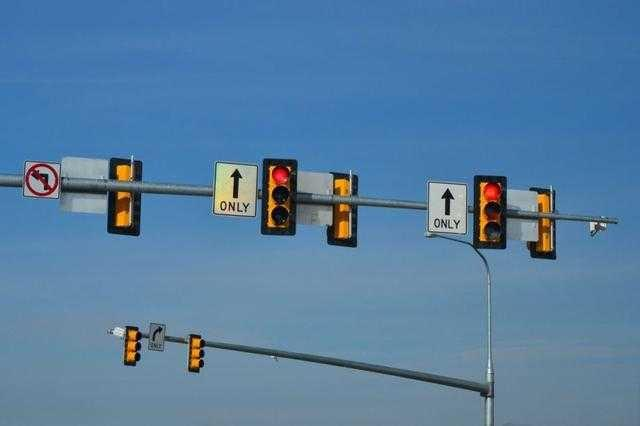red: (474, 179, 507, 246), (266, 164, 292, 230), (268, 159, 293, 186), (478, 177, 504, 202)
